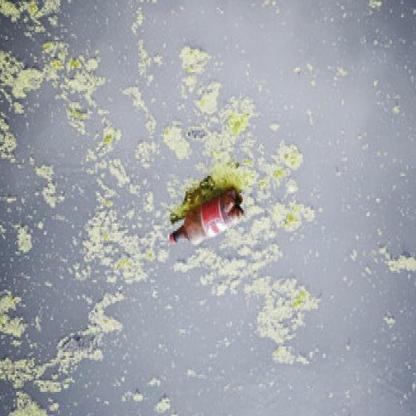plastic bottle: (169, 188, 245, 242)
